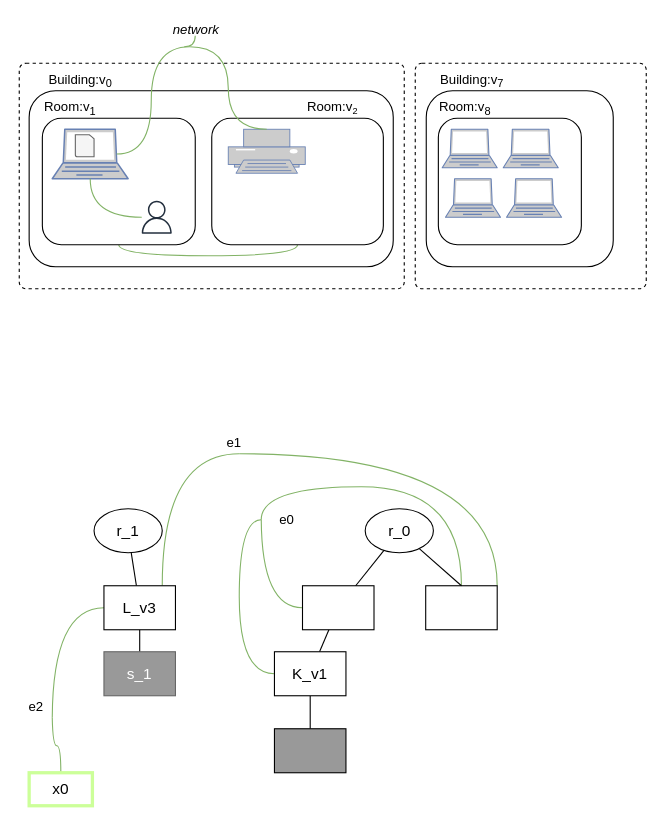
The diagram is 666 pixels wide and 826 high, and some of its shapes have lost their labels. The centre of each missing label's shape, as x and y in pixels:
K_v0: the point at 337,607
M_v2: the point at 461,607
s_0: the point at 309,750
